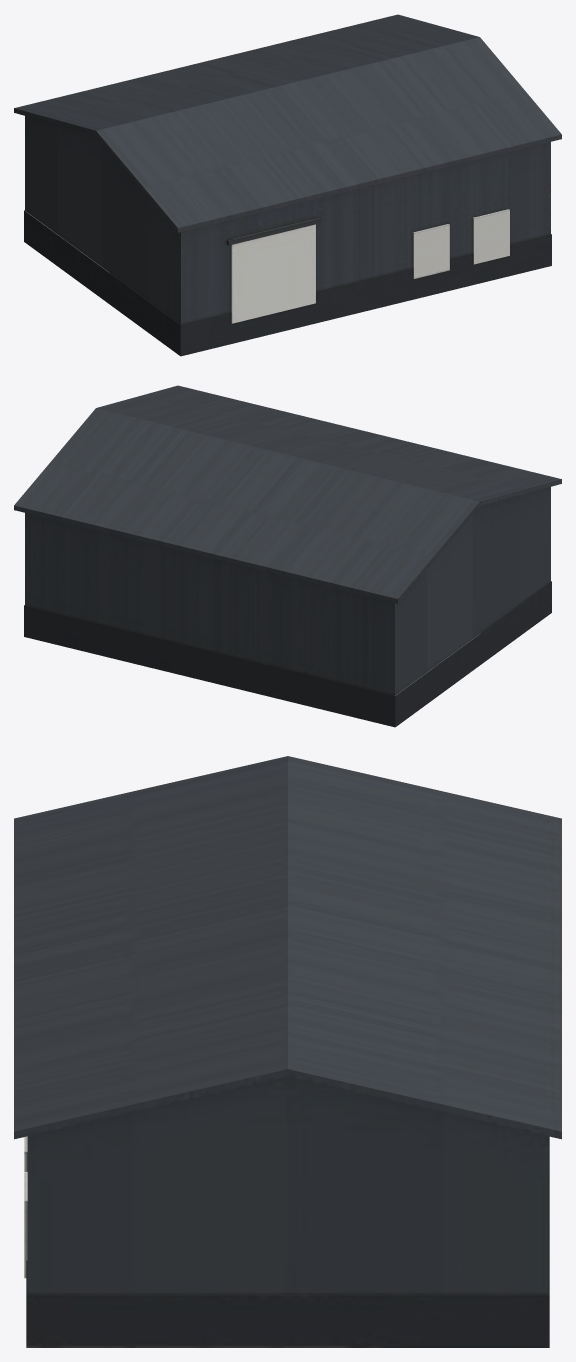
Rendered from hala_grafit.glb.
3 views of the same model, one above another, from view 1: azimuth 30°, elevation 25°; view 2: azimuth 150°, elevation 25°; view 3: azimuth 270°, elevation 25° (orthographic). The views are drawn at different scales.
Visible parts, largest first — view 1: hala_grafit; view 2: hala_grafit; view 3: hala_grafit.
Boxes of the visible parts, x1,y1,x2,y2 form: hala_grafit: (14,14,561,356); hala_grafit: (14,385,561,727); hala_grafit: (14,756,561,1347).
Bounding box in the file's own units: 19.2 × 8.12 × 14.2.
1 material, 1 textured.
